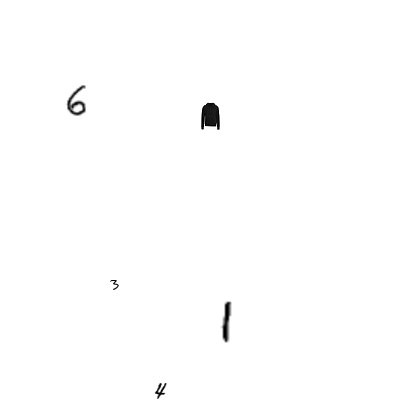1: (197, 292, 253, 348)
3: (108, 277, 122, 291)
4: (149, 379, 171, 401)
6: (54, 81, 96, 123)
Pullover: (196, 102, 224, 130)
